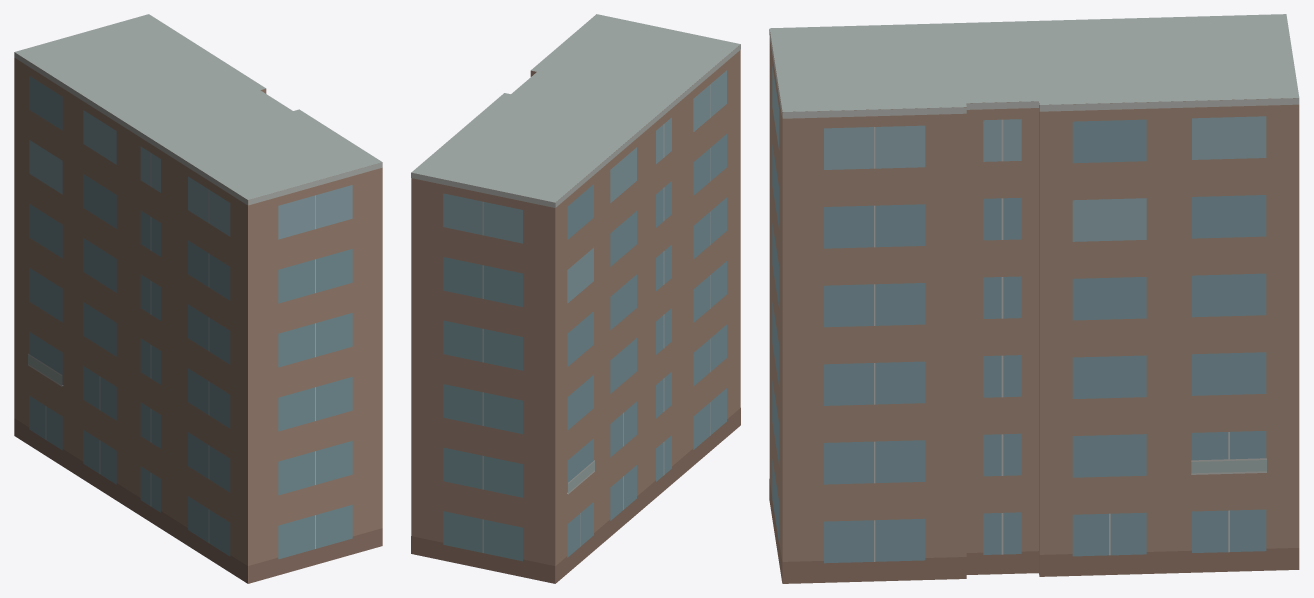
Rendered from survey-upis-32996367.glb.
3 views of the same model, side by side, from view 1: azimuth 30°, elevation 25°; view 2: azimuth 150°, elevation 25°; view 3: azimuth 270°, elevation 25° (orthographic). The views are drawn at different scales.
Parts seen in each view (by area): view 1: survey-upis-32996367.tmp; view 2: survey-upis-32996367.tmp; view 3: survey-upis-32996367.tmp.
Part boxes in pixels (x1,y1,x2,y2): survey-upis-32996367.tmp: (14,14,382,583); survey-upis-32996367.tmp: (411,14,740,583); survey-upis-32996367.tmp: (769,14,1299,583).
Bounding box in the file's own units: 7.68 × 17.2 × 17.52.
